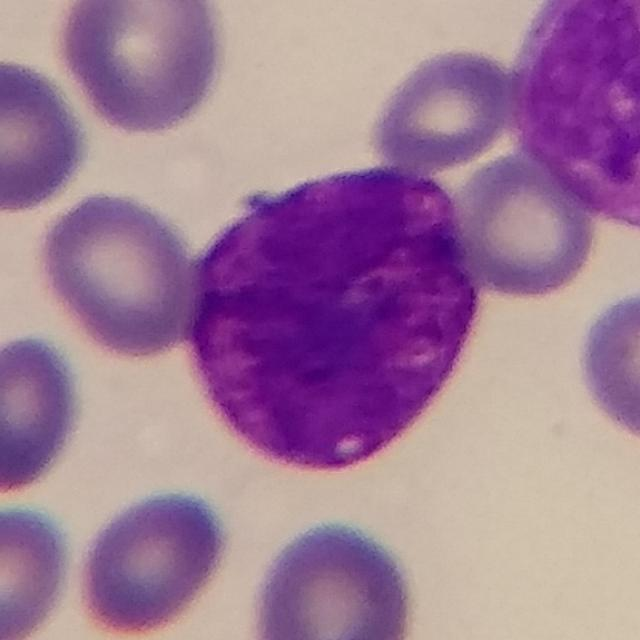baso: (175, 158, 484, 481)
